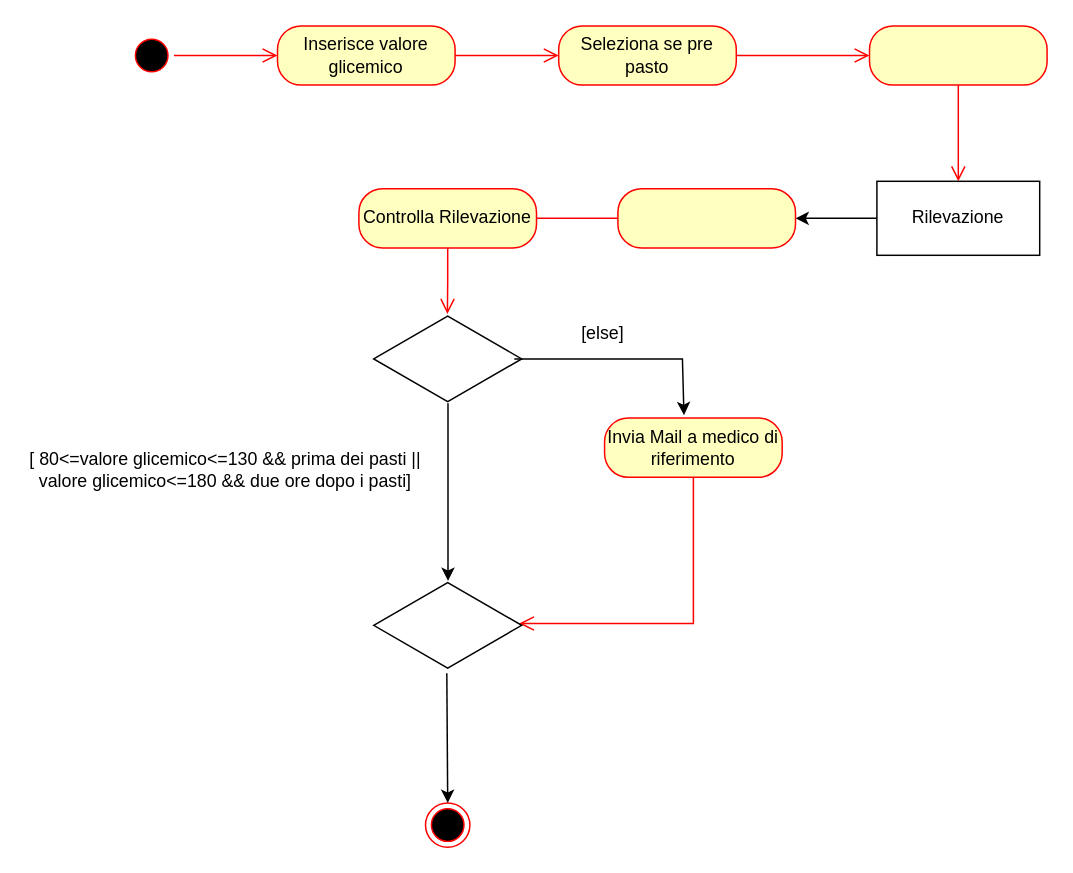
The diagram is 1073 pixels wide and 873 high, and some of its shapes have lost their labels. Here are the shapes that lost their labels. From the top down, the centre of each, then its label:
At point 957,54: "Crea Rilevazione".
At point 706,217: "Inserisci Rilevazione".
